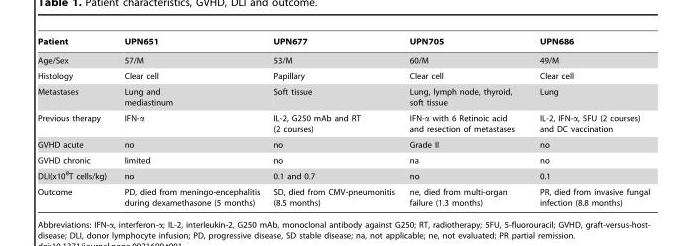table: (37, 36, 649, 206)
table column: (114, 36, 265, 206), (265, 36, 401, 206), (401, 36, 526, 206), (526, 36, 649, 206), (37, 36, 114, 206)
table column header: (37, 36, 649, 50)
table row: (37, 83, 649, 110), (37, 110, 649, 136), (37, 183, 649, 206), (37, 50, 649, 67), (37, 67, 649, 83), (37, 136, 649, 152), (37, 167, 649, 183), (37, 152, 649, 167), (37, 36, 649, 50)
